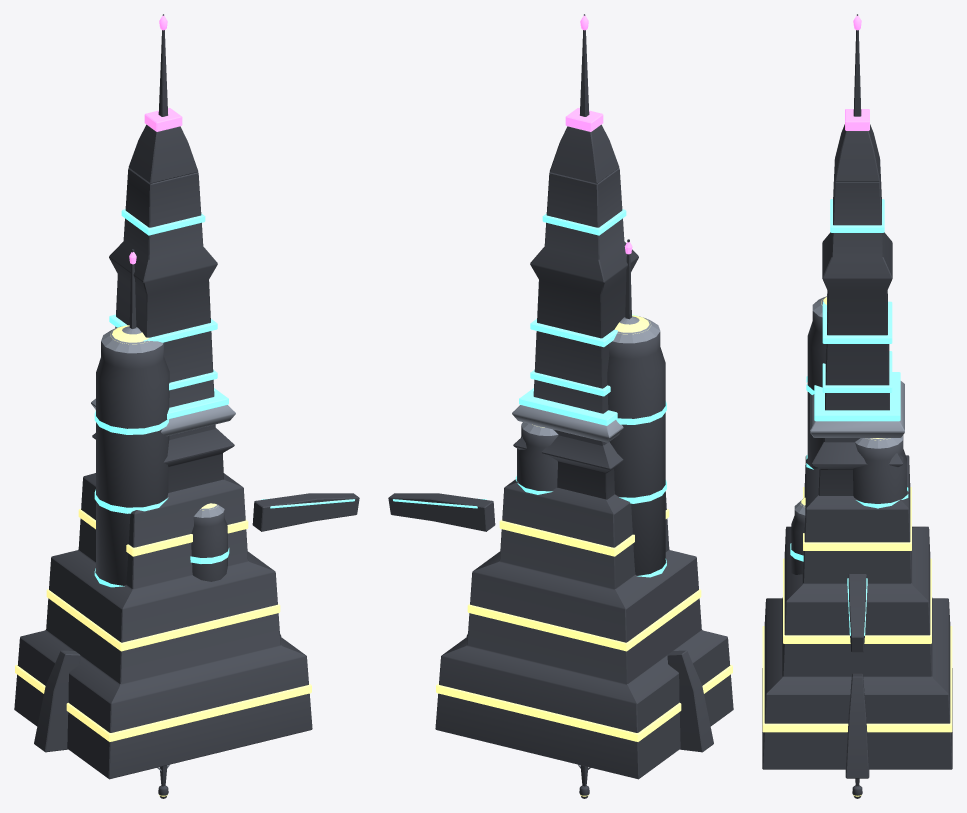
Rendered from skyweave-structures.glb.
3 views of the same model, side by side, from view 1: azimuth 30°, elevation 25°; view 2: azimuth 150°, elevation 25°; view 3: azimuth 270°, elevation 25° (orthographic).
Visible parts, largest first — view 1: TowerBlock_B, TowerBlock_A, TowerBlock_C; view 2: TowerBlock_B, TowerBlock_A, TowerBlock_C; view 3: TowerBlock_B, TowerBlock_A, TowerBlock_C.
Part boxes in pixels (x1,y1,x2,y2): TowerBlock_B: [14, 388, 359, 779]; TowerBlock_A: [92, 14, 234, 492]; TowerBlock_C: [94, 249, 229, 587]; TowerBlock_B: [388, 388, 733, 779]; TowerBlock_A: [513, 14, 638, 499]; TowerBlock_C: [515, 239, 666, 577]; TowerBlock_B: [762, 372, 952, 778]; TowerBlock_A: [811, 14, 903, 495]; TowerBlock_C: [790, 296, 908, 574].
Bounding box in the file's own units: 80.95 × 191 × 41.98.
